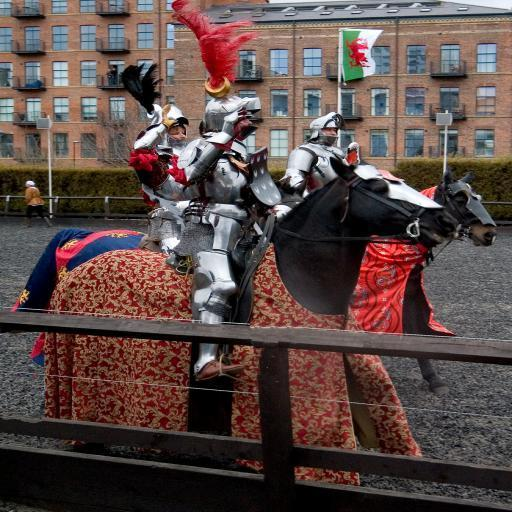horse: (54, 158, 456, 434), (349, 163, 497, 397), (47, 176, 308, 282), (256, 174, 314, 226)
